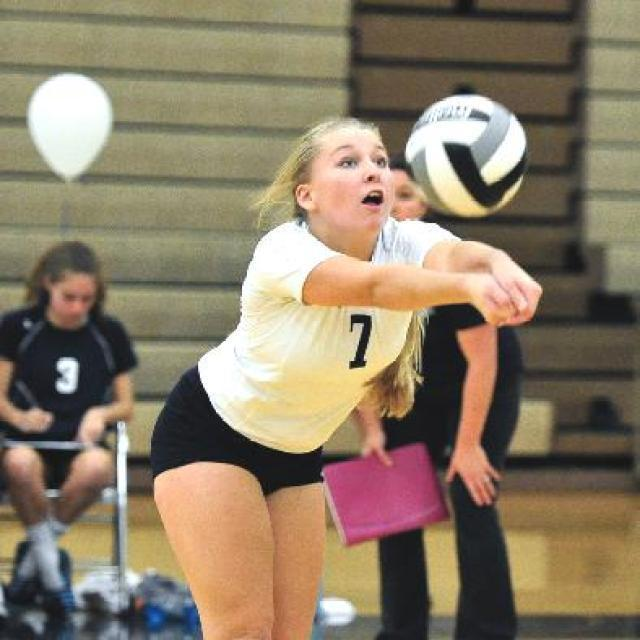volleyball: (406, 95, 528, 218)
